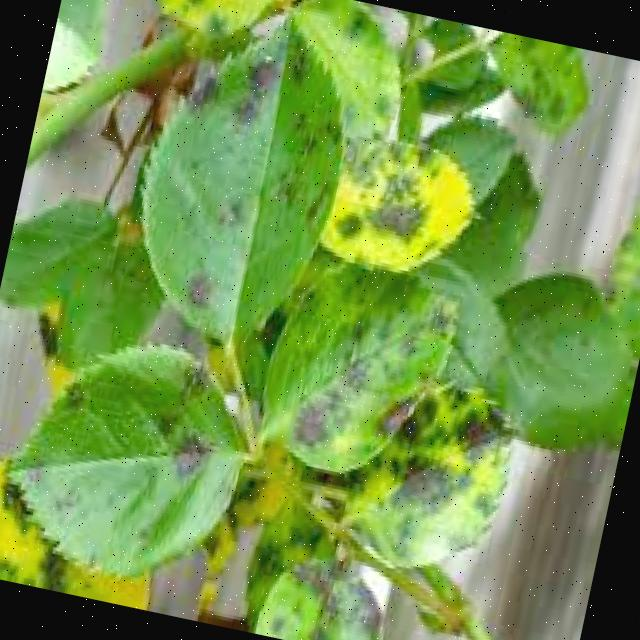leaf spot: (56, 0, 619, 640)
